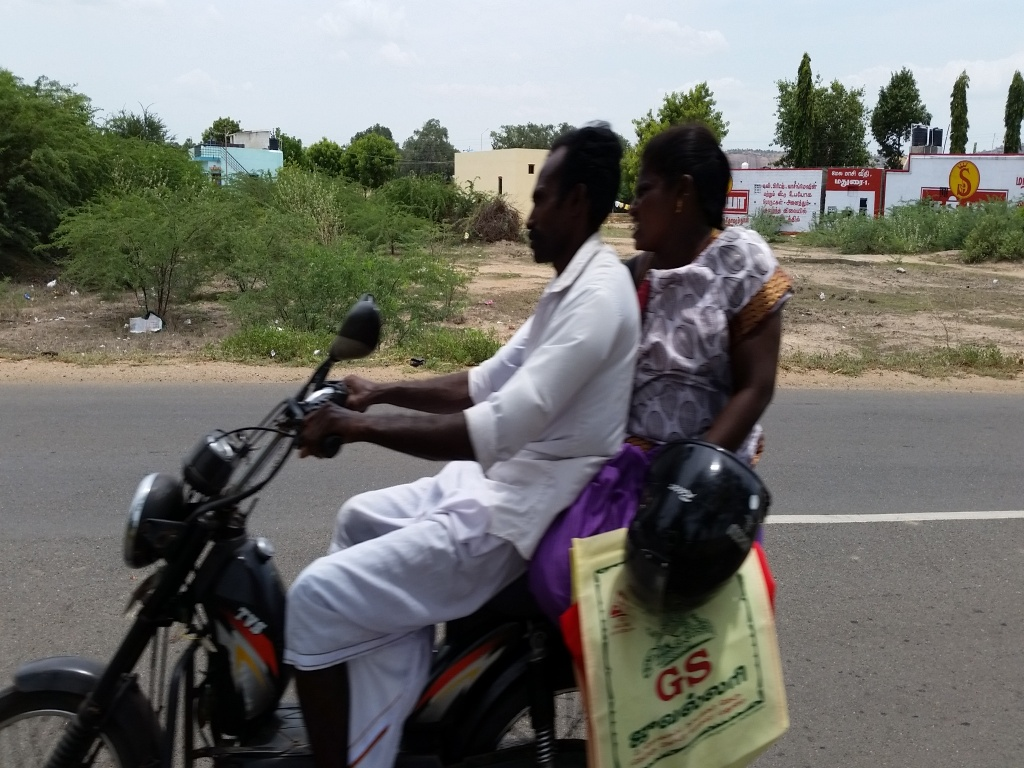biker: (1, 35, 827, 768)
nohelmet: (510, 107, 625, 275), (626, 117, 742, 275)
